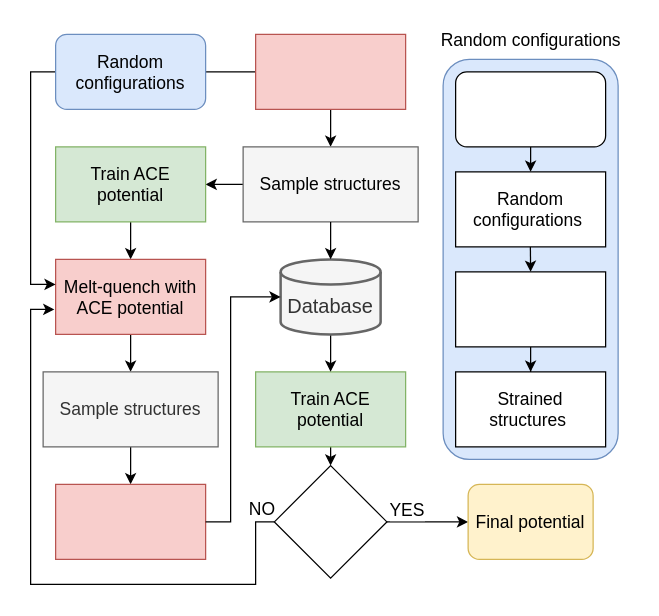
Image size: 659x616. Some labels were removed from this diagram. Each missing label, with the box of its shape:
Choosen compositions: (454, 71, 606, 147)
Desired accuracy: (273, 464, 387, 578)
High temperature AIMD: (254, 33, 406, 109)
Scale dimensions: (454, 271, 606, 347)
Single-point DFT: (54, 483, 206, 559)
